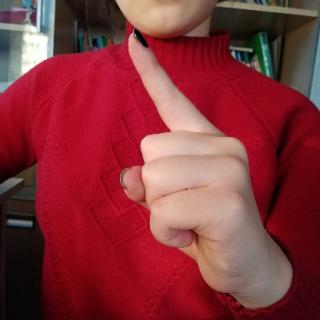RAA: (102, 25, 291, 300)
